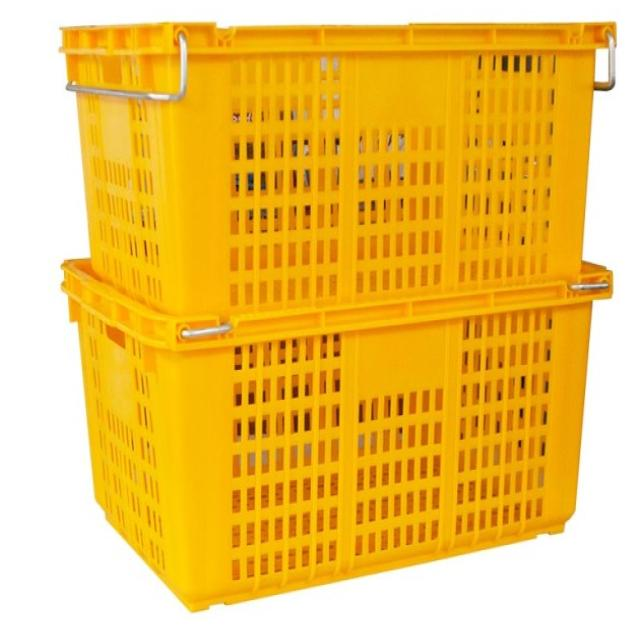basket: (60, 260, 613, 613), (60, 20, 617, 315)
